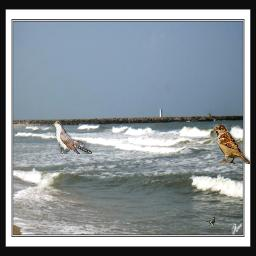Crow: (205, 217, 215, 227)
Cuckoo: (52, 121, 92, 154)
Sparrow: (213, 124, 250, 164)
